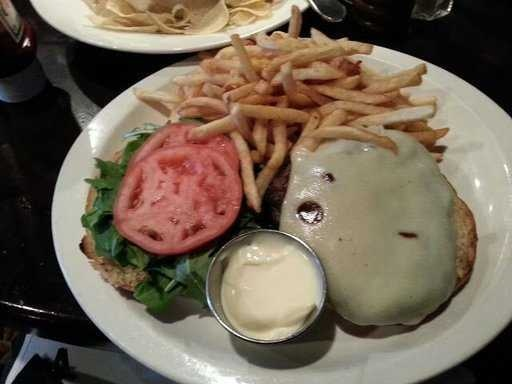hamburger: (253, 134, 493, 310)
